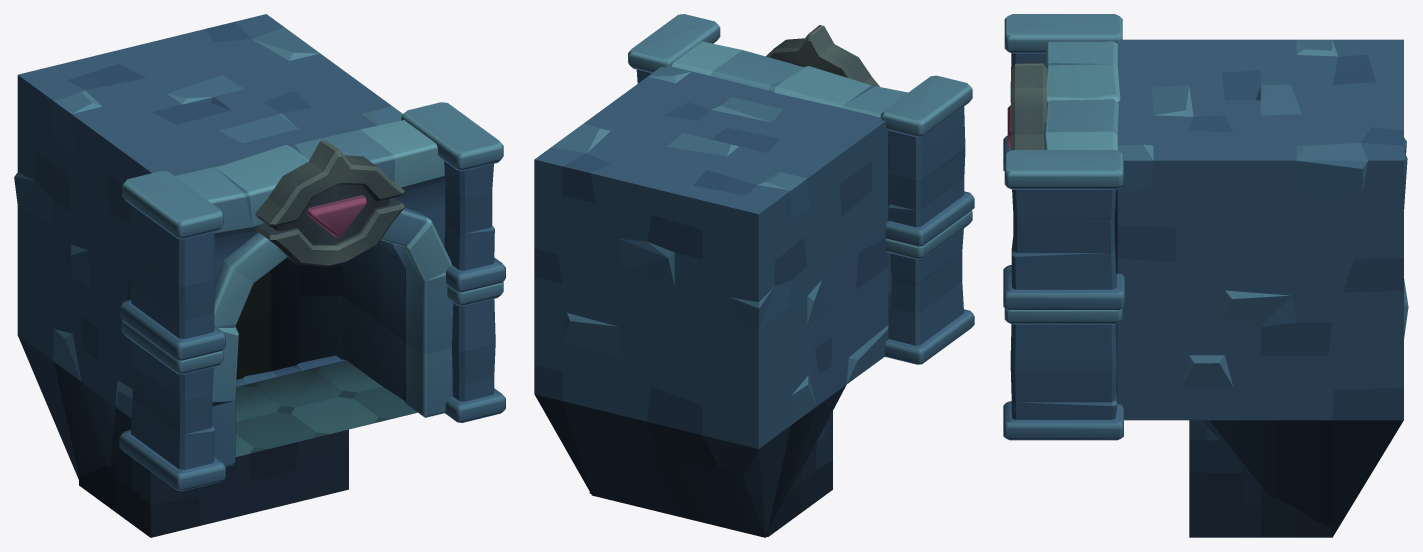
The model's file is doorway_level_to_level_down.fbx.
The picture shows the model from 3 angles, left to right: view 1: azimuth 30°, elevation 25°; view 2: azimuth 150°, elevation 25°; view 3: azimuth 270°, elevation 25°; orthographic projection. The views are drawn at different scales.
Parts seen in each view (by area): view 1: doorway_level_to_level_down; view 2: doorway_level_to_level_down; view 3: doorway_level_to_level_down.
Boxes of the visible parts, left/top/right/bottom form: doorway_level_to_level_down: left=14, top=14, right=505, bottom=537; doorway_level_to_level_down: left=534, top=14, right=974, bottom=537; doorway_level_to_level_down: left=1003, top=14, right=1408, bottom=537.
Bounding box in the file's own units: 530 × 658 × 566.
